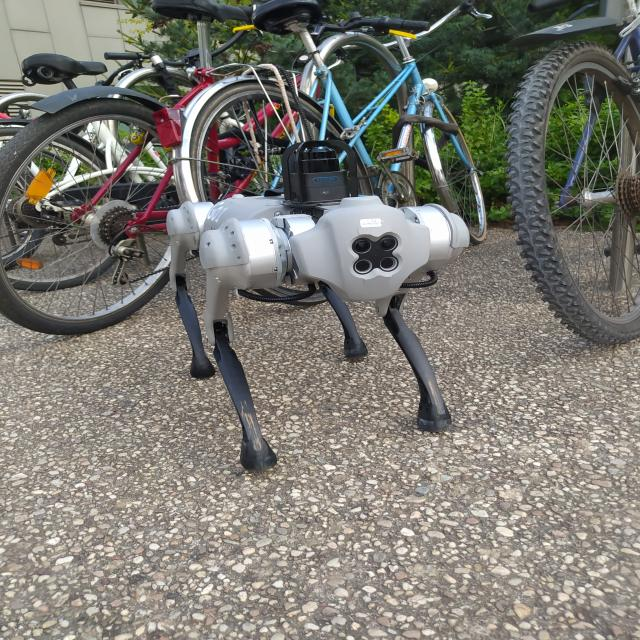unitree-go1-robot: (167, 142, 475, 470)
